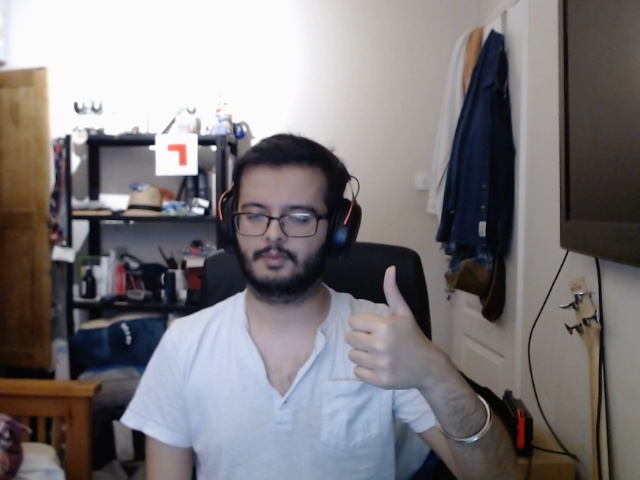Thumbs up: (344, 257, 428, 402)
